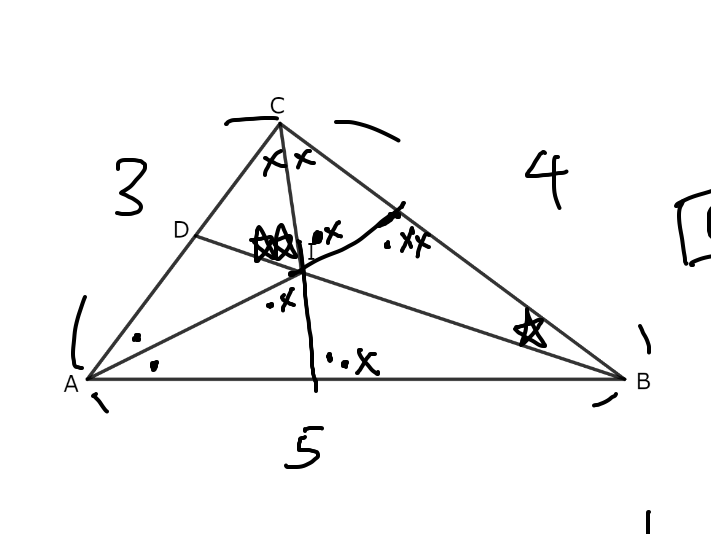Angle_Point: (307, 222, 330, 249), (140, 356, 165, 378), (260, 293, 281, 312), (334, 354, 353, 373), (321, 345, 337, 367), (127, 330, 148, 346), (377, 235, 393, 254)
Angle_x: (354, 343, 381, 380), (291, 142, 320, 175), (260, 148, 291, 175), (275, 285, 298, 313), (411, 230, 434, 254), (322, 216, 343, 241), (397, 224, 416, 251)
